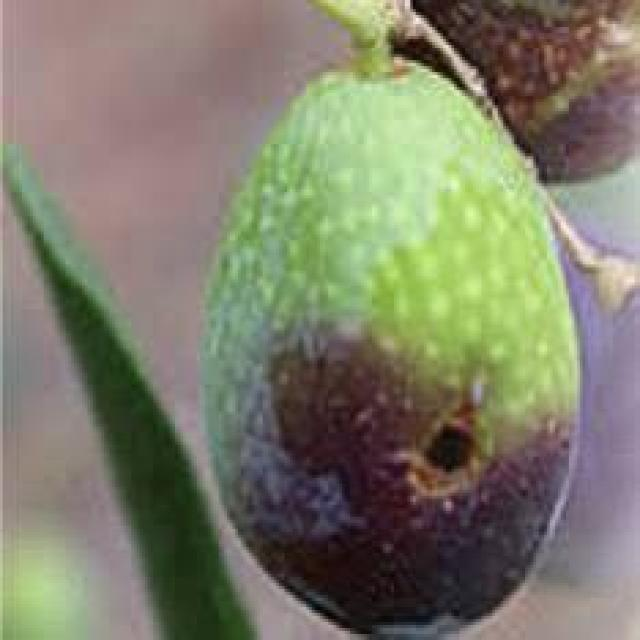Anthracnose: (208, 0, 574, 631)
